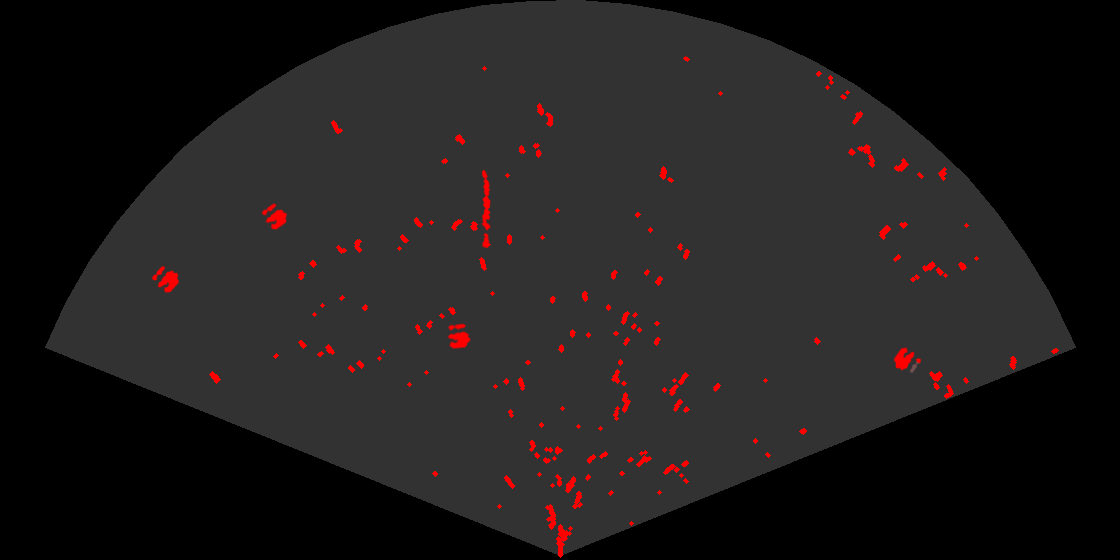ball: (150, 265, 181, 295), (892, 346, 923, 374), (260, 202, 289, 231), (446, 322, 472, 350)
chain: (480, 168, 493, 248)
